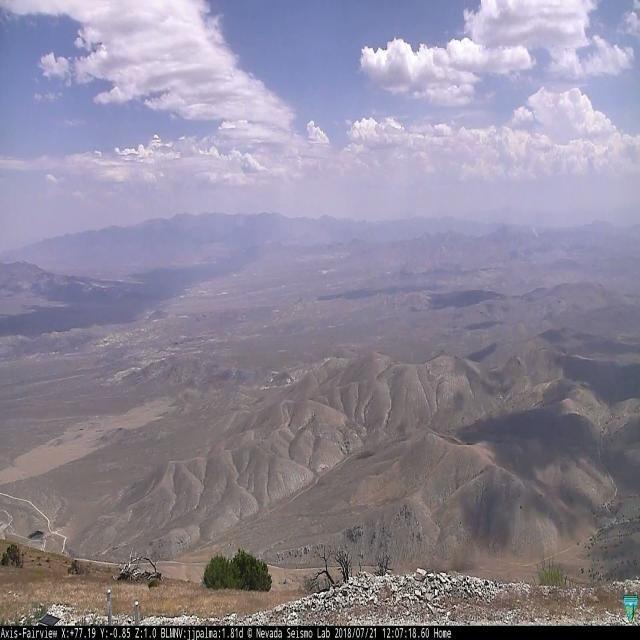smoke: (532, 226, 540, 236)
